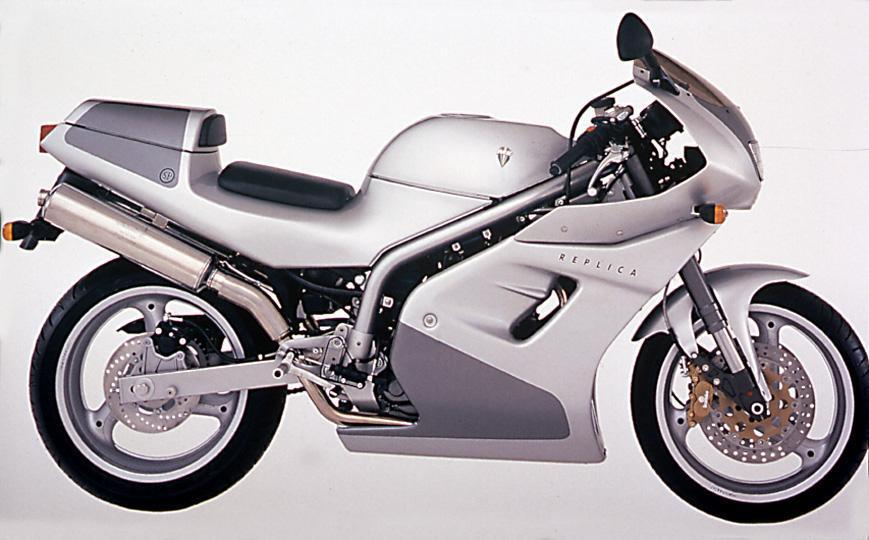motorcycle: (4, 6, 869, 536)
